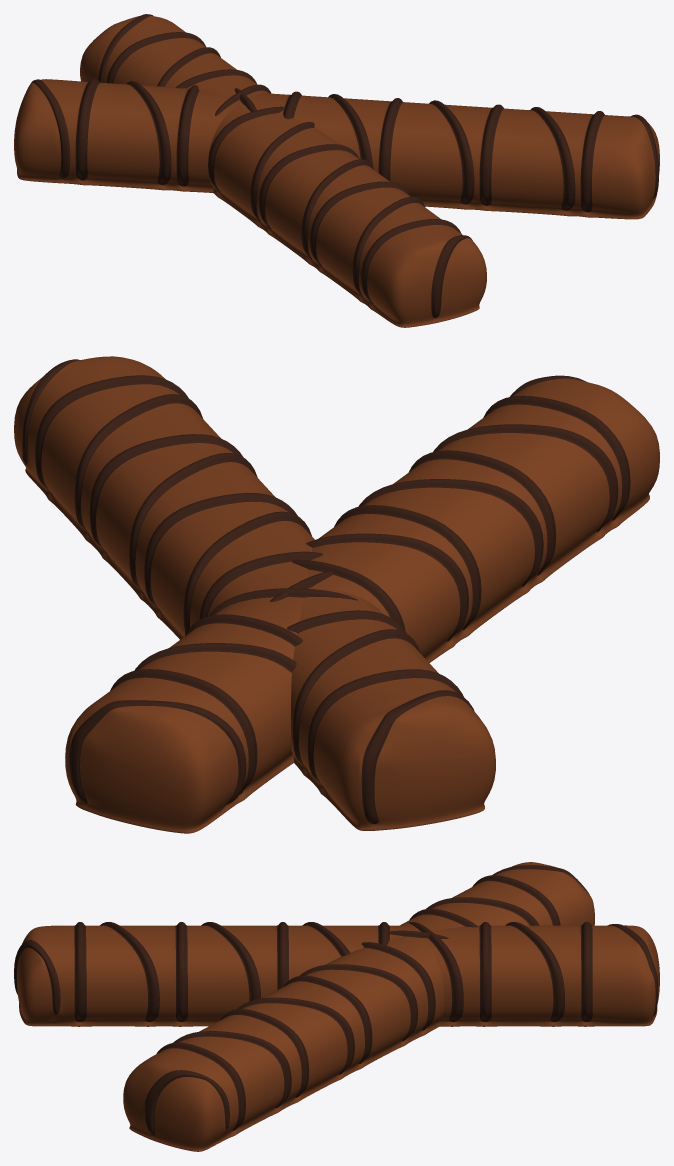
Rendered from stick-chocolate.glb.
The picture shows the model from 3 angles, top to bottom: view 1: azimuth 30°, elevation 25°; view 2: azimuth 150°, elevation 25°; view 3: azimuth 270°, elevation 25°; orthographic projection. The views are drawn at different scales.
Parts seen in each view (by area): view 1: 10854_Candy_bar_v3_L3.001; view 2: 10854_Candy_bar_v3_L3.001; view 3: 10854_Candy_bar_v3_L3.001.
Boxes of the visible parts, box(x1,y1,x2,y2) form: 10854_Candy_bar_v3_L3.001: box(14, 14, 659, 327); 10854_Candy_bar_v3_L3.001: box(14, 356, 659, 833); 10854_Candy_bar_v3_L3.001: box(14, 862, 659, 1151).
Bounding box in the file's own units: 4.04 × 0.6121 × 4.71.
